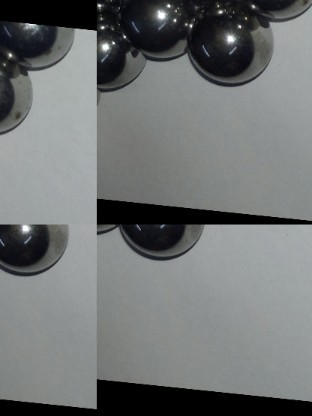ironball: (189, 5, 274, 84), (119, 0, 206, 61), (94, 18, 155, 96), (0, 16, 86, 71), (116, 221, 219, 259), (2, 221, 72, 272), (0, 61, 40, 138)
